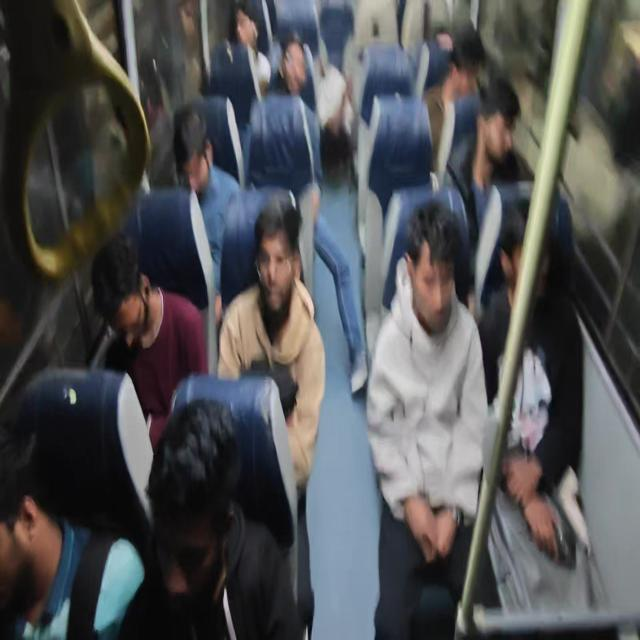person: (146, 372, 264, 640), (81, 232, 188, 410), (500, 164, 586, 360), (237, 177, 315, 329), (13, 466, 73, 628), (400, 199, 463, 317), (177, 93, 223, 210), (449, 25, 503, 120), (314, 22, 354, 149), (272, 11, 322, 93), (478, 79, 527, 160), (217, 4, 263, 77), (429, 12, 454, 59)
